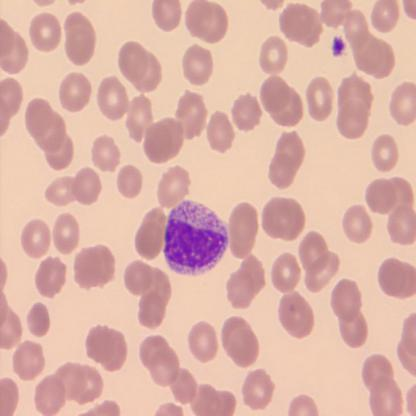Metamyelocyte: (162, 198, 230, 277)
